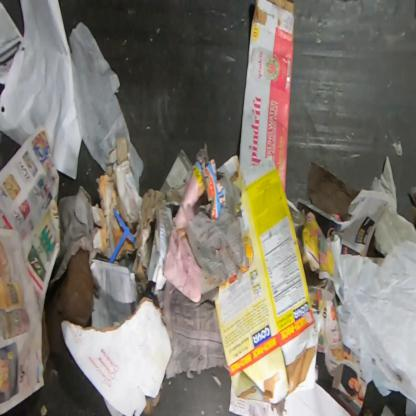cardboard: (214, 154, 324, 405), (90, 136, 194, 308), (60, 295, 174, 415), (238, 0, 296, 193)
soft_plastic: (326, 232, 415, 415), (369, 154, 416, 258)
